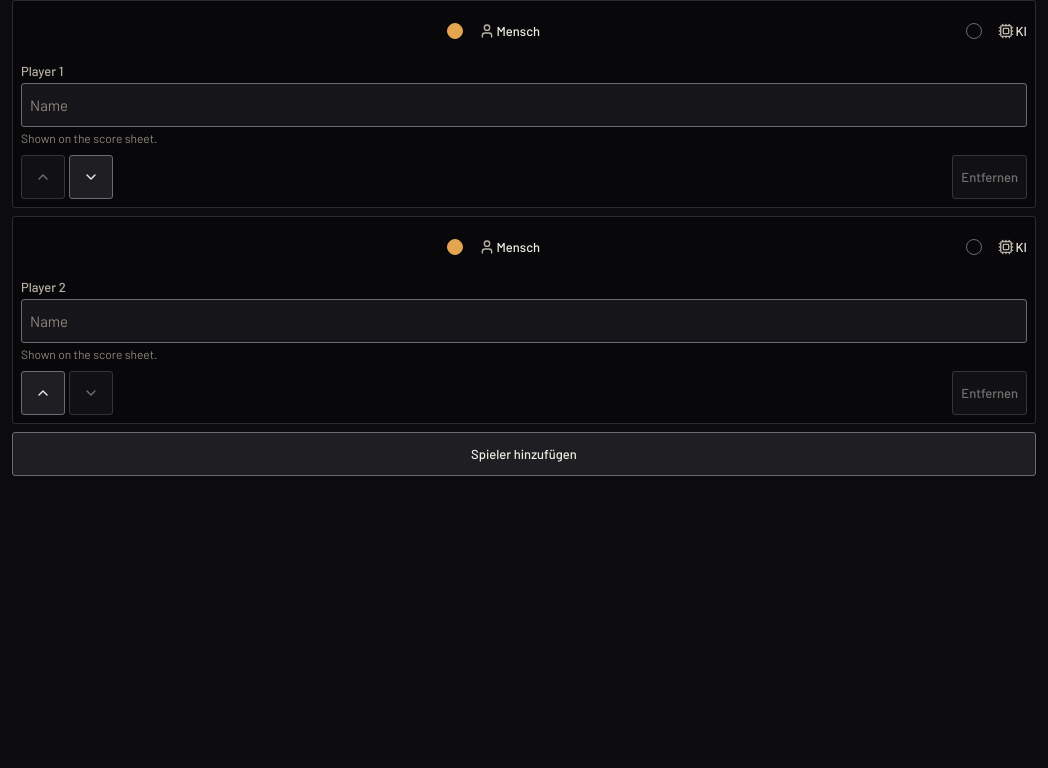
PlayerSeatSetup › offers the average of an AI seat only
Expected: the field labelled "Average" is not shown
Click the 1st radio button labelled "KI".
click(974, 31)  # box [952, 9, 996, 53]
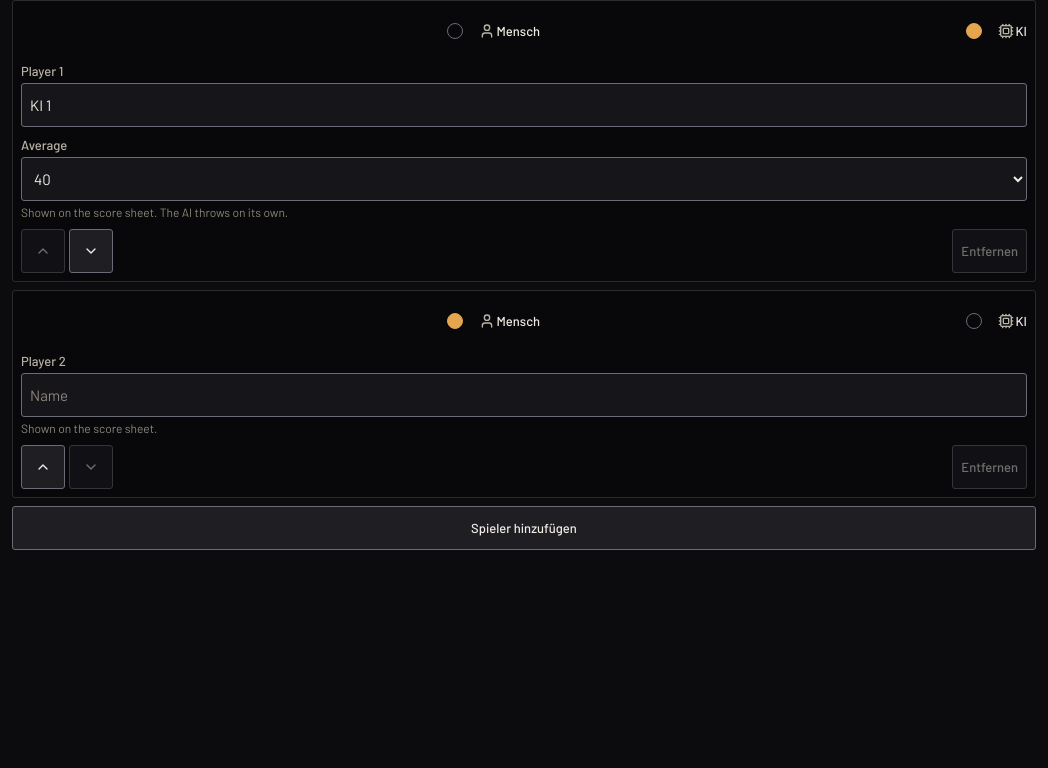
Expected: the dropdown labelled "Average" is shown, [21, 157, 1027, 201]
